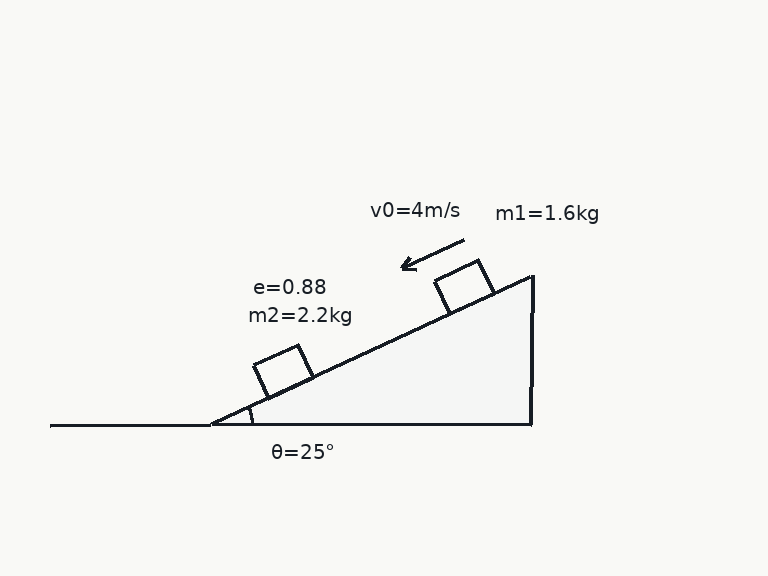block: (251, 343, 315, 400), (432, 258, 495, 315)
ramp: (210, 274, 532, 426)
